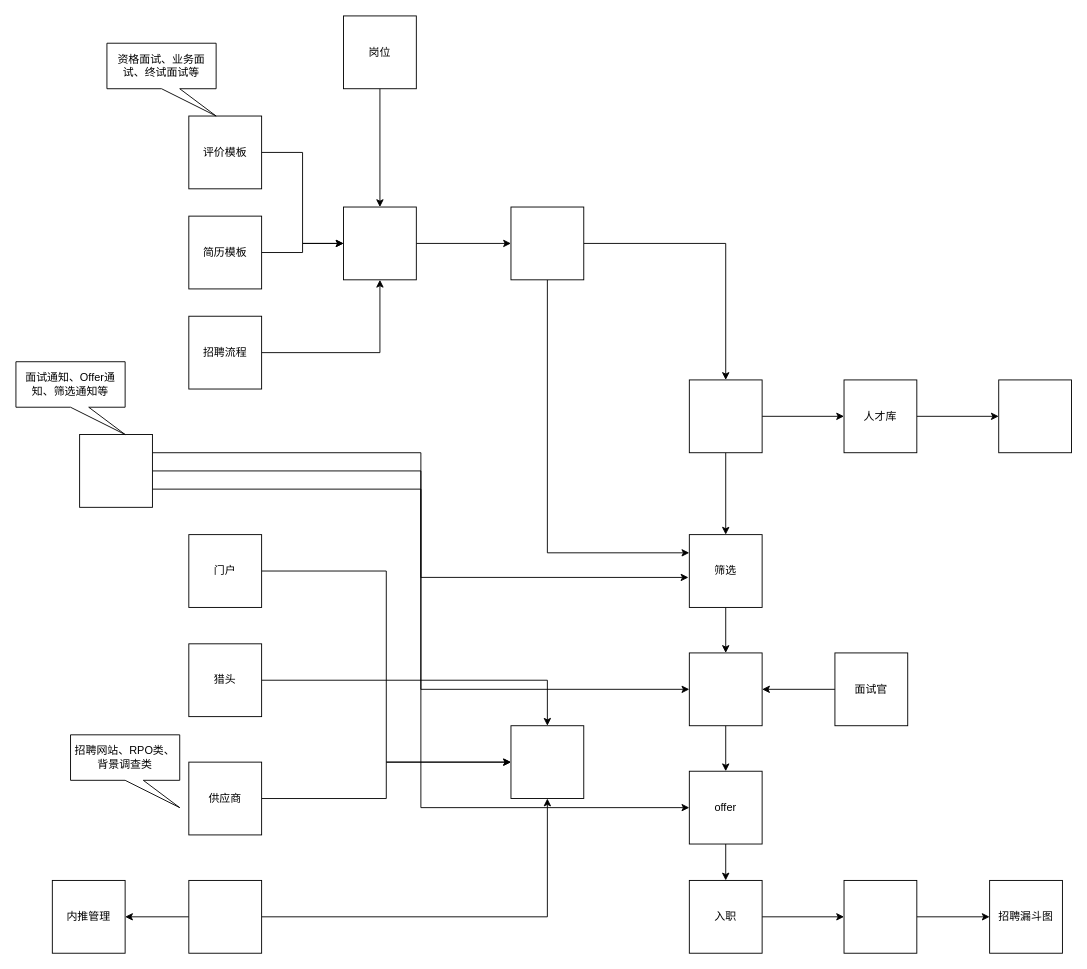
Image size: 1087x969. Some labels were removed from this diagram. Here are the shapes that lost their labels. From the top down, the centre of each, then its label:
(379,243): 岗位模板
(547,243): 需求
(725,416): 候选人
(1035,416): 人才地图
(115,470): 通知模板
(725,689): 面试
(547,762): 渠道
(225,916): 内推
(880,916): 招聘分析
